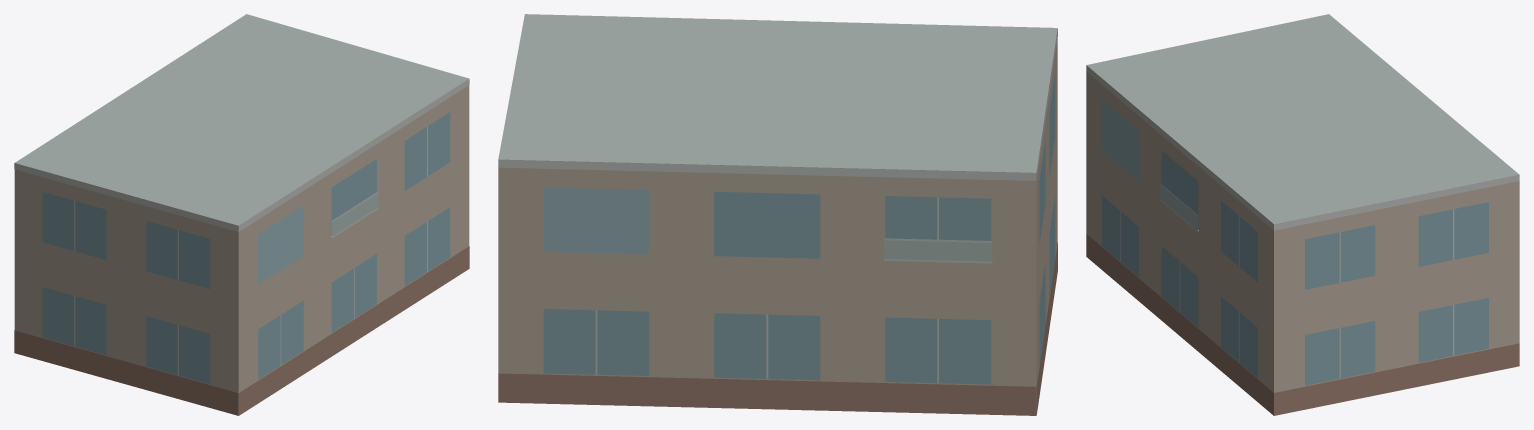
Rendered from survey-upis-32738592.glb.
3 renders of one model, left to right at view 1: azimuth 30°, elevation 25°; view 2: azimuth 150°, elevation 25°; view 3: azimuth 270°, elevation 25°, orthographic. The views are drawn at different scales.
Parts seen in each view (by area): view 1: survey-upis-32738592.tmp; view 2: survey-upis-32738592.tmp; view 3: survey-upis-32738592.tmp.
Part boxes in pixels (bbox=[...]): survey-upis-32738592.tmp: bbox=[14, 14, 469, 415]; survey-upis-32738592.tmp: bbox=[498, 14, 1057, 415]; survey-upis-32738592.tmp: bbox=[1086, 14, 1519, 415].
Bounding box in the file's own units: 17.19 × 7.3 × 14.97.
